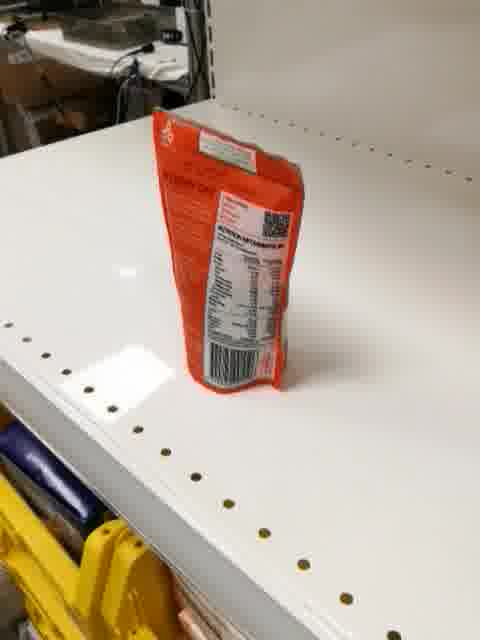whitechia: (149, 102, 307, 397)
